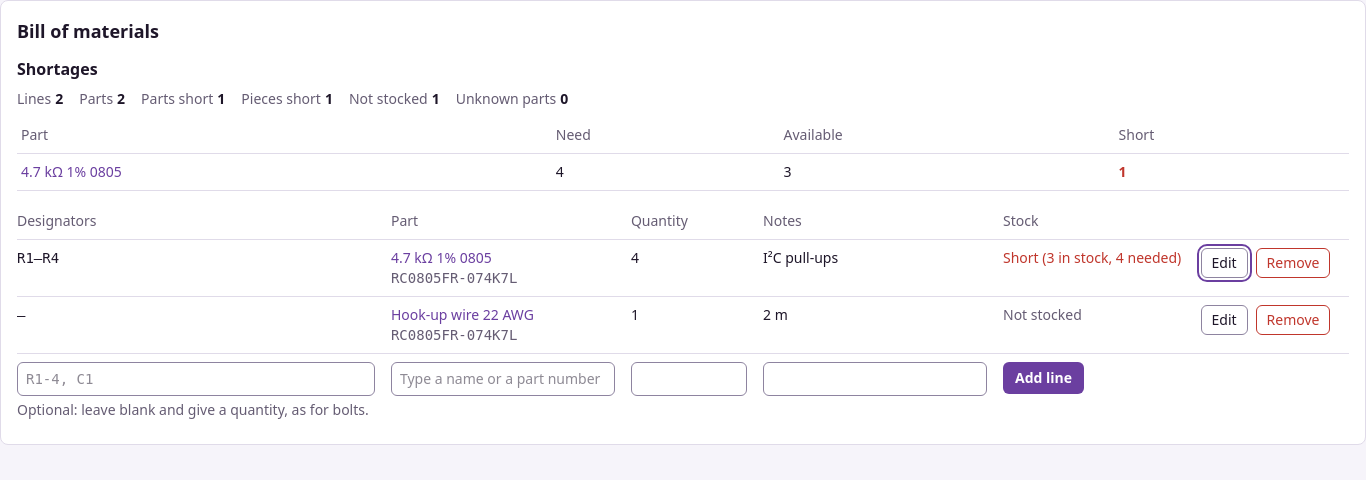
Test: BomLineRow › edits a line in its row and saves it on Enter, focus back on Edit
This screenshot has width=1366, height=480.
Press Enter
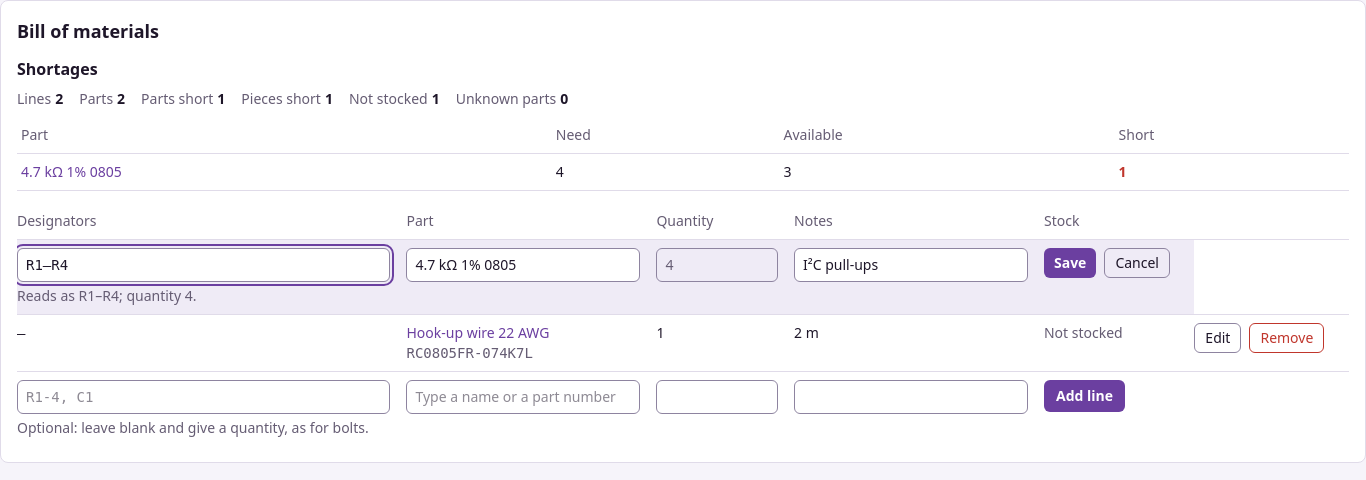
Result: the field named "Designators" holds "R1–R4"
Result: the dropdown named "part" holds "4.7 kΩ 1% 0805" at [406,248,640,282]
Result: the 1st number field named "Quantity" holds "4" at [656,248,778,282]
Clear the field named "Designators" at (204, 265), box [17,248,390,282]
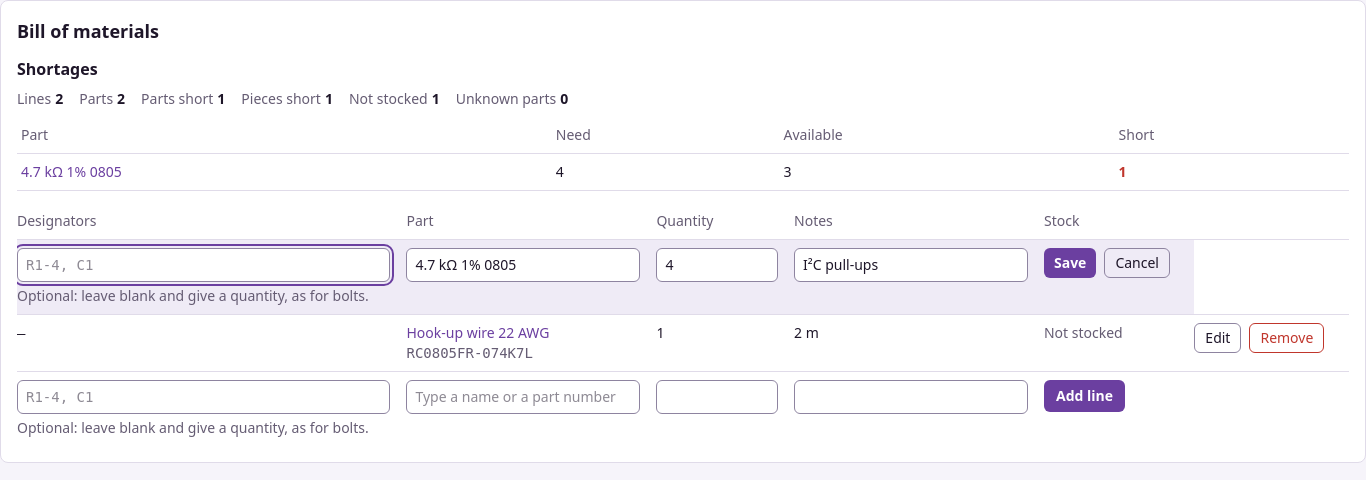
Type keys "R1-3{Enter}"
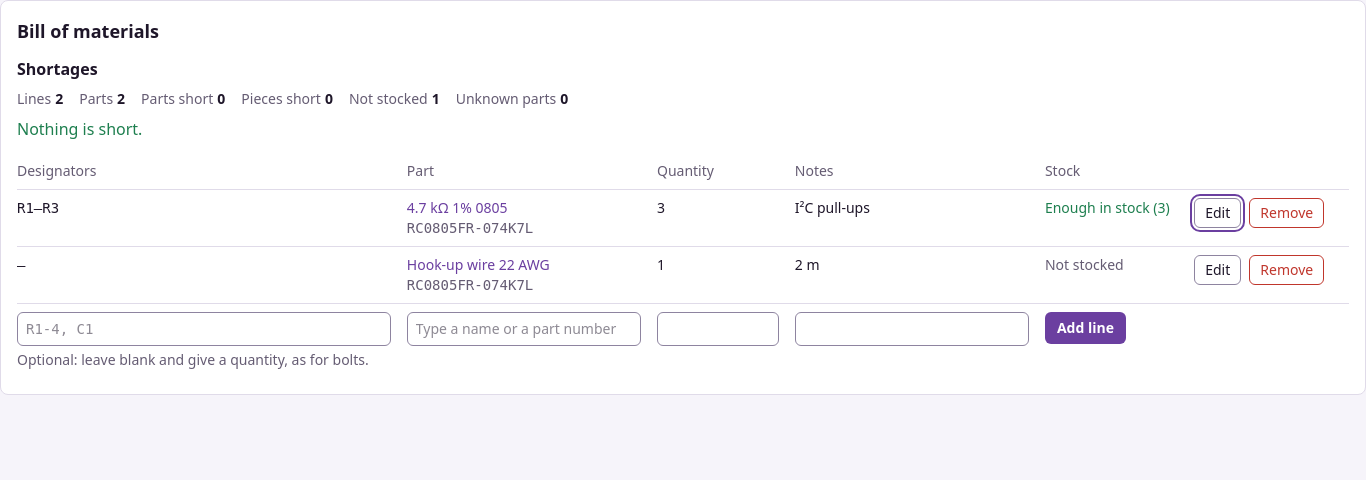
Result: the text "Nothing is short." is shown at [17,118,142,140]
